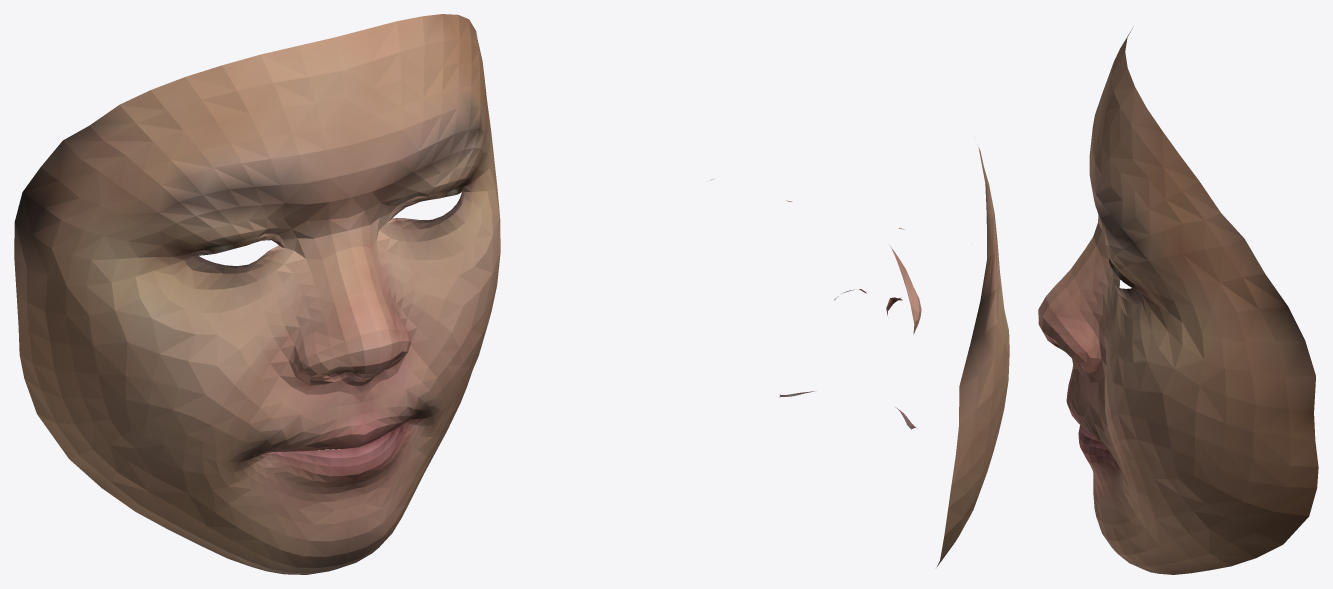
3 views of the same model, side by side, from view 1: azimuth 30°, elevation 25°; view 2: azimuth 150°, elevation 25°; view 3: azimuth 270°, elevation 25° (orthographic). The views are drawn at different scales.
Parts seen in each view (by area): view 1: Face; view 2: Face; view 3: Face.
Part boxes in pixels (bbox=[...]): Face: bbox=[14, 14, 500, 574]; Face: bbox=[707, 144, 1009, 567]; Face: bbox=[1038, 26, 1318, 574].
Bounding box in the file's own units: 0.1568 × 0.1796 × 0.0907.
